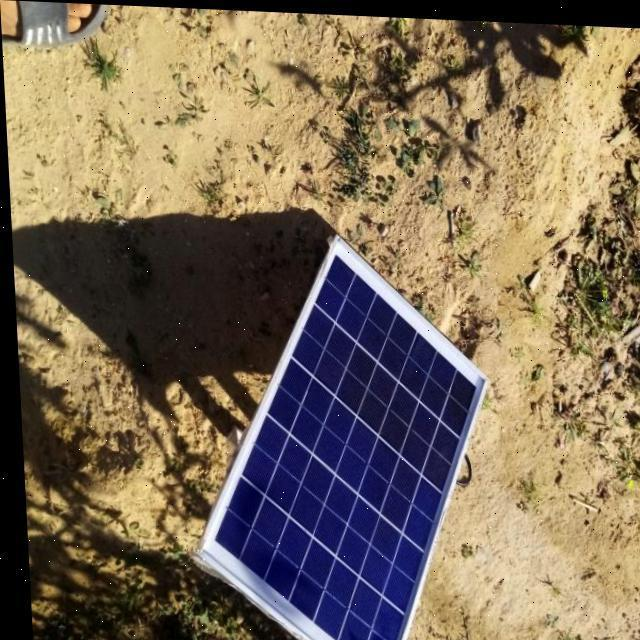Normal Solar Panel: (183, 225, 496, 640)
